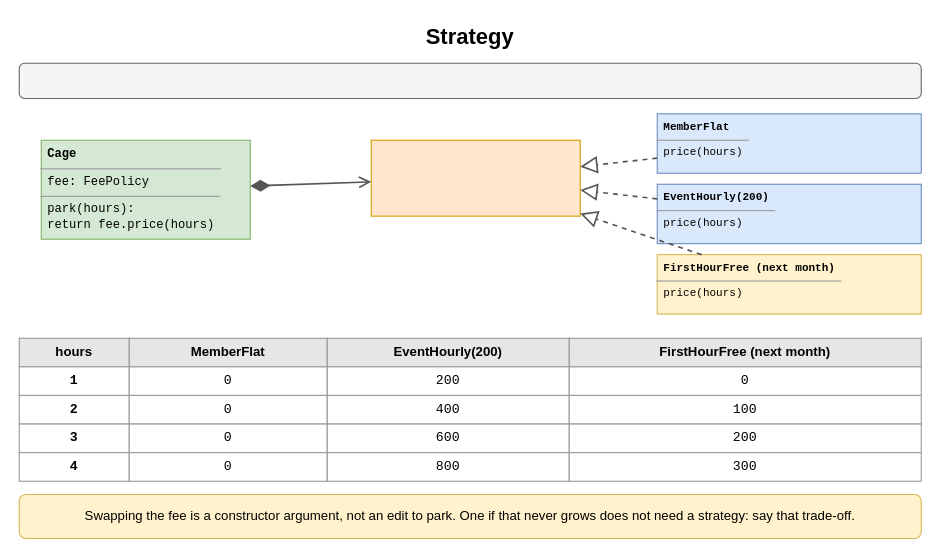
This 941x558 diagram has some shape labels left out. The shapes that lost their labels are listed below. From the top down, each one's centre as x and y in pixels, then its label:
At [469,80]: "A family of interchangeable algorithms behind one method, held as a field".
At [475,177]: "«interface» FeePolicy price(hours) -> int".
